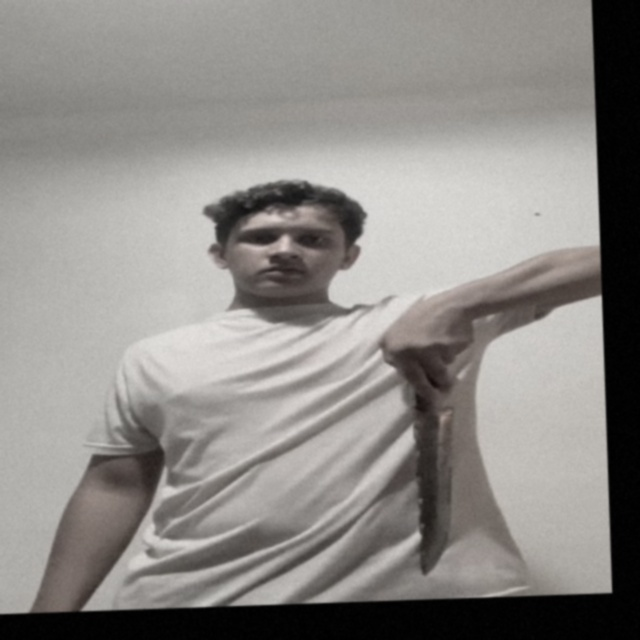Sharp-Object: (409, 405, 458, 578)
